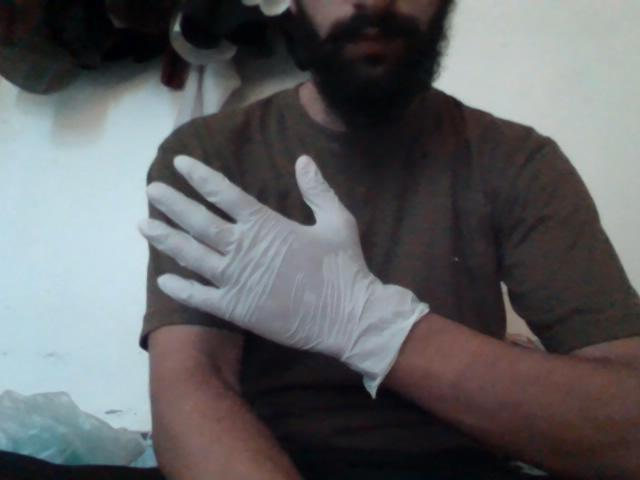gloves: (136, 144, 437, 385)
